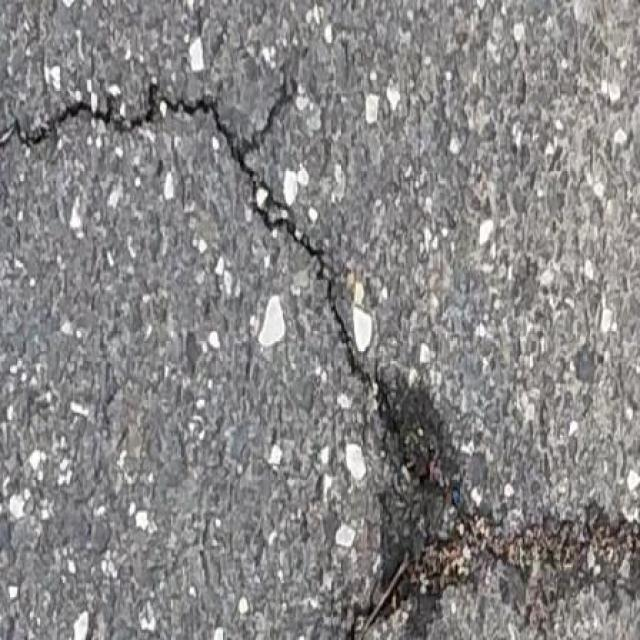Crack: (0, 66, 640, 639)
